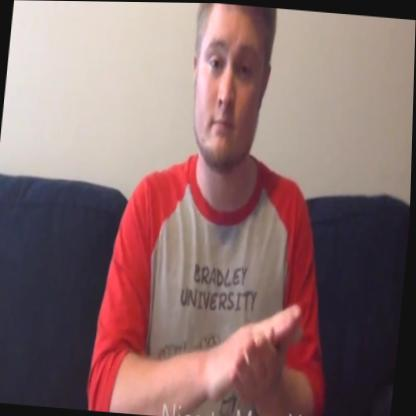NiceToMeetYou: (208, 280, 302, 410)
